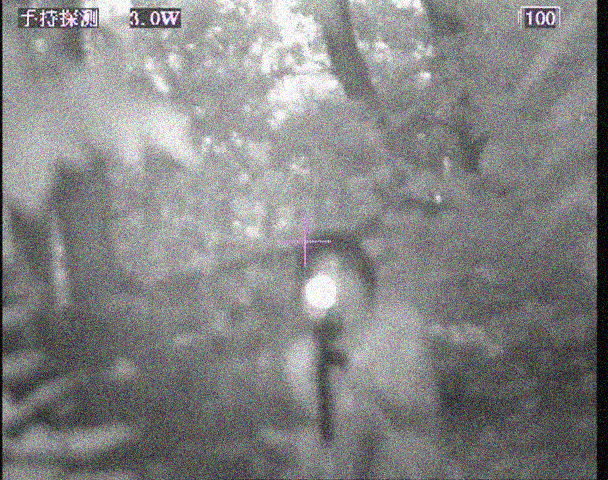my: (304, 273, 338, 308)
